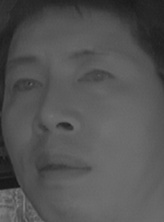eye: (75, 65, 116, 90), (9, 74, 44, 97)
mouth: (29, 148, 95, 186)
